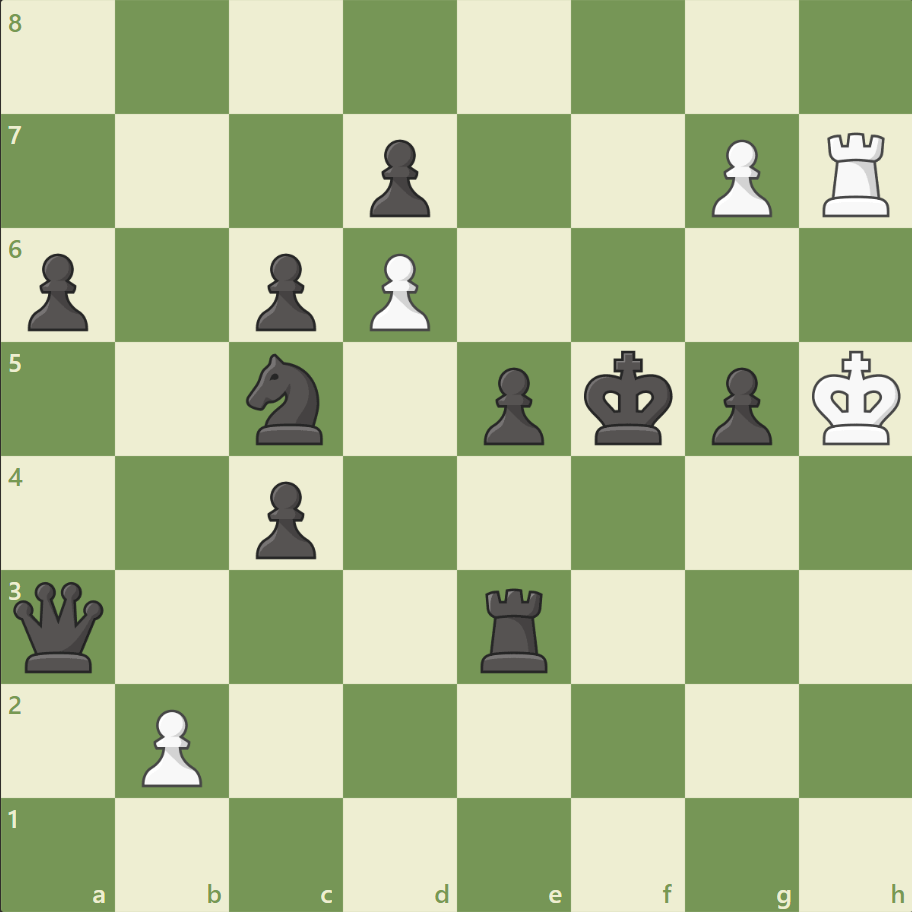K: (806, 344, 906, 452)
P: (701, 132, 776, 223), (133, 700, 208, 791), (361, 246, 435, 337)
R: (814, 125, 897, 222)
k: (579, 344, 679, 452)
n: (238, 348, 335, 450)
p: (20, 246, 95, 337), (247, 246, 322, 337), (474, 359, 549, 450), (701, 359, 776, 450), (247, 473, 322, 564), (361, 132, 435, 223)
q: (10, 576, 109, 676)
r: (473, 579, 556, 676)
